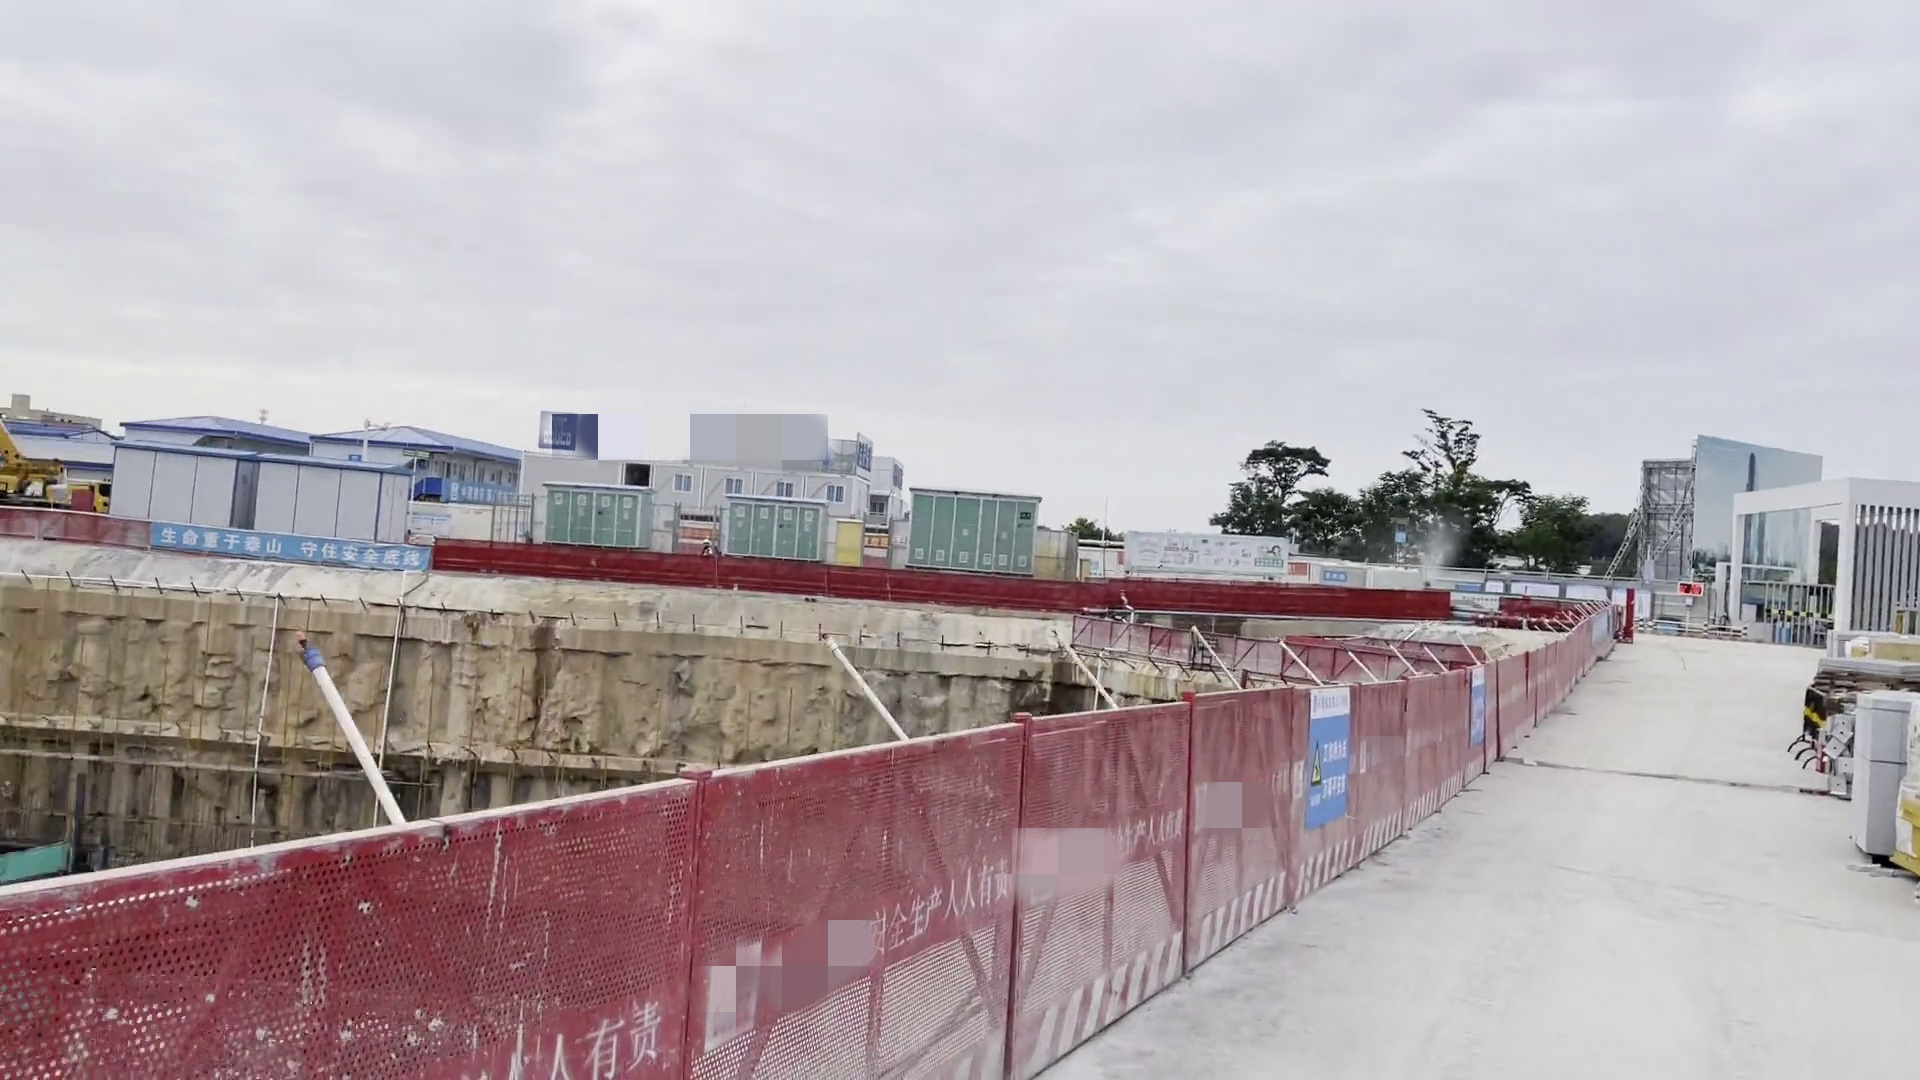fence: (7, 616, 1617, 1075), (1, 495, 1614, 630)
slogan: (148, 520, 429, 576)
